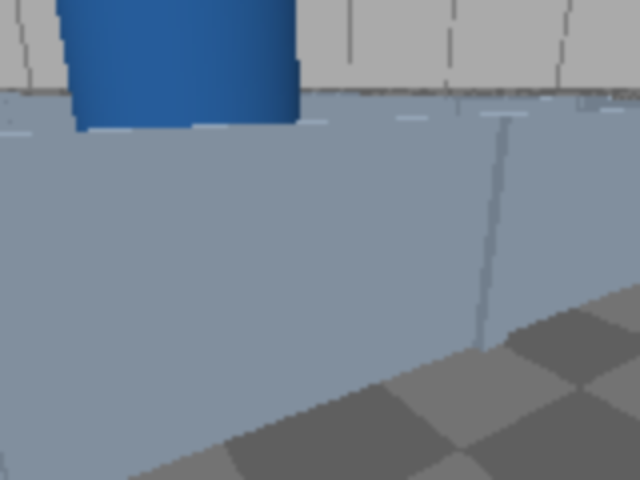person: (0, 0, 291, 340)
